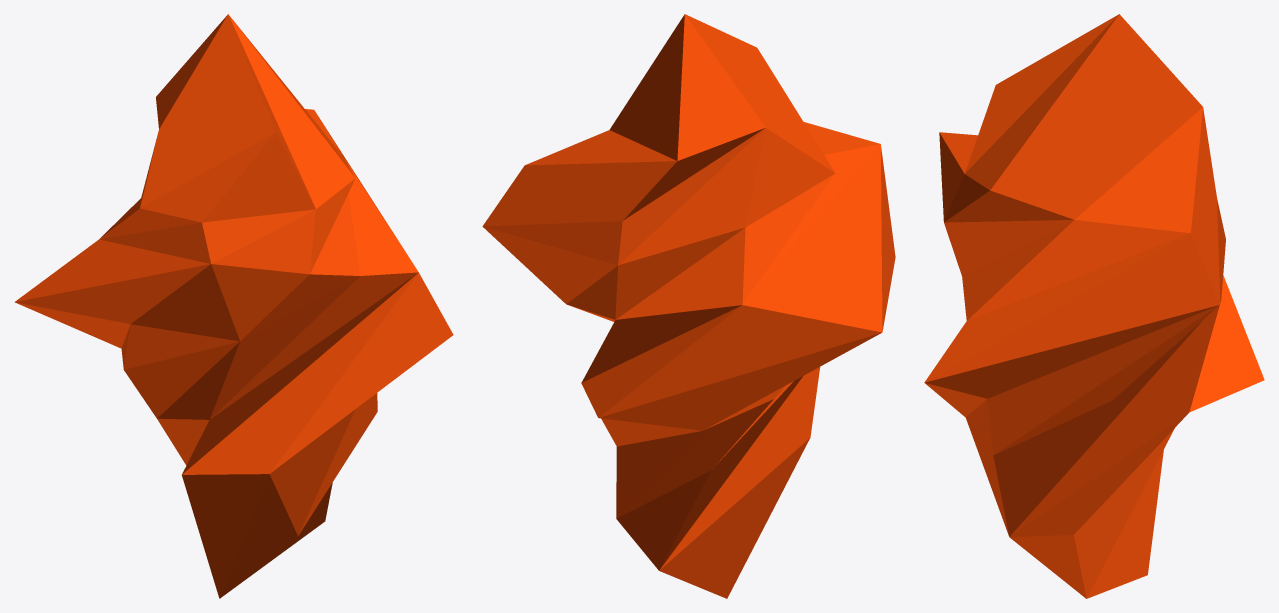
File: Crystal_047.fbx
3 views of the same model, side by side, from view 1: azimuth 30°, elevation 25°; view 2: azimuth 150°, elevation 25°; view 3: azimuth 270°, elevation 25° (orthographic). The views are drawn at different scales.
Parts seen in each view (by area): view 1: Crystal.047; view 2: Crystal.047; view 3: Crystal.047.
Part boxes in pixels (x1=…): Crystal.047: x1=14, y1=14, x2=453, y2=598; Crystal.047: x1=482, y1=14, x2=895, y2=598; Crystal.047: x1=924, y1=14, x2=1264, y2=598.
Bounding box in the file's own units: 315 × 490 × 253.
